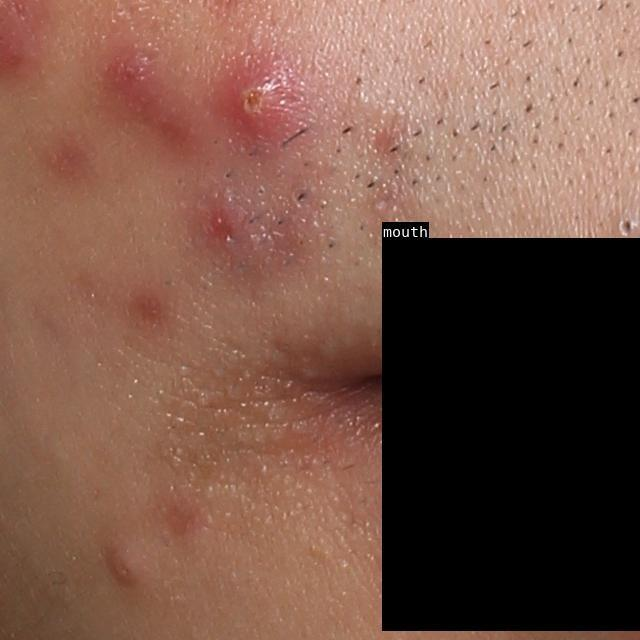comedo: (614, 213, 639, 241)
papule: (205, 56, 302, 147), (196, 193, 262, 258), (105, 42, 162, 109), (102, 544, 153, 591)
